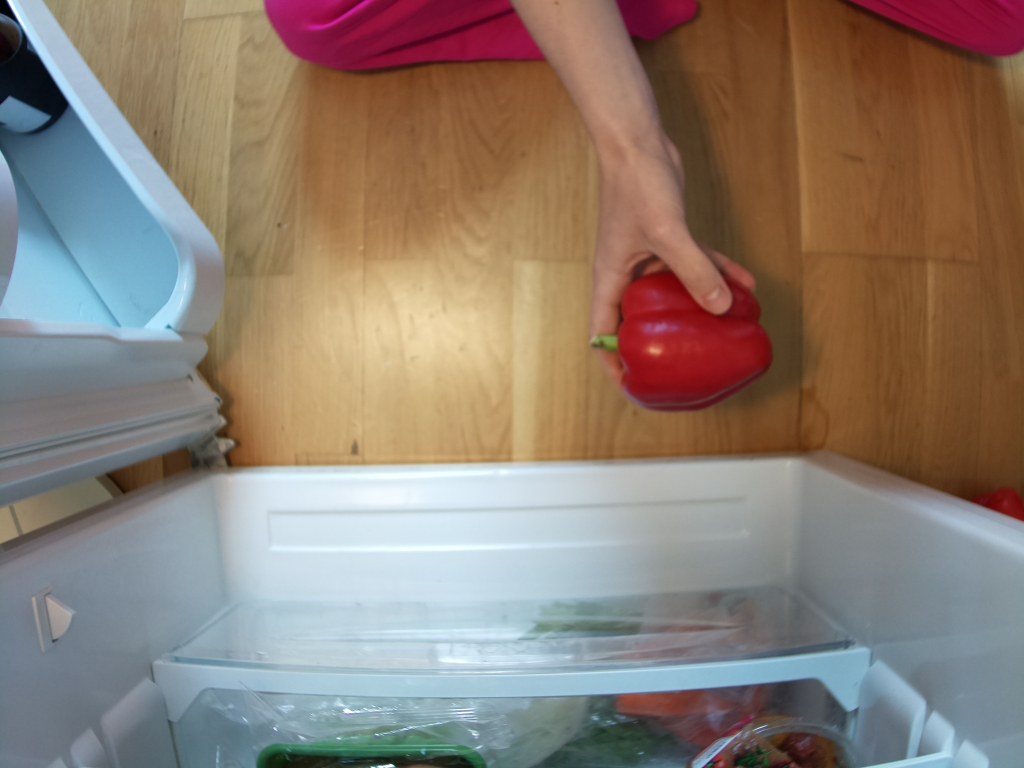pepper: (589, 273, 775, 415)
